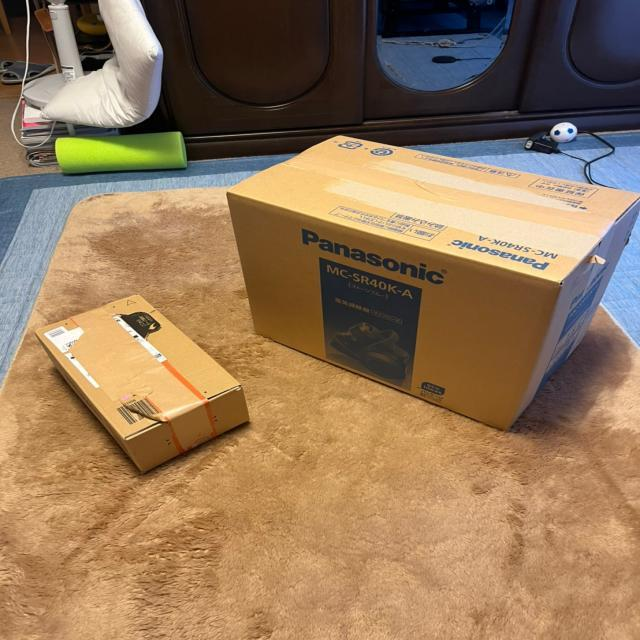-: (223, 129, 640, 435), (29, 290, 257, 487)
